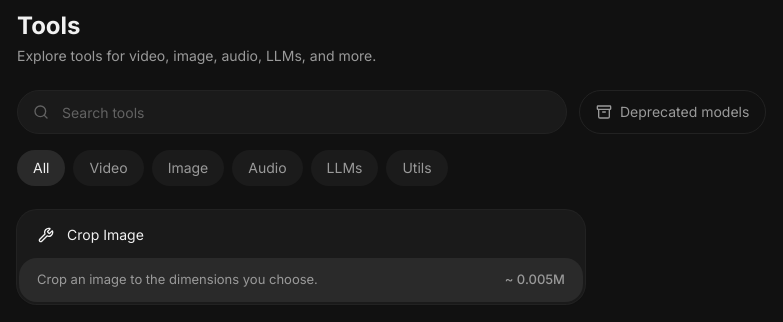
Test: ToolsPage › keeps every category chip enabled, even ones with no tools
Expected: the text "Crop Image" is shown, [67,225,144,245]
Expected: the button "Utils" is enabled, [386,150,448,186]
Click the button "Audio". click: click(267, 168)
box: [232,150,303,186]
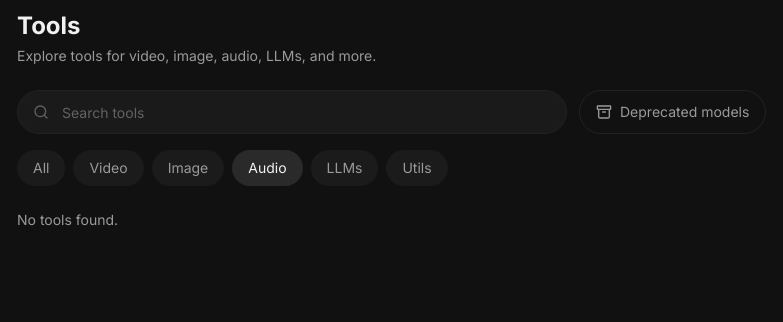
Result: the link "Crop Image" is gone
Result: the text "No tools found." is shown at [17,211,118,228]
